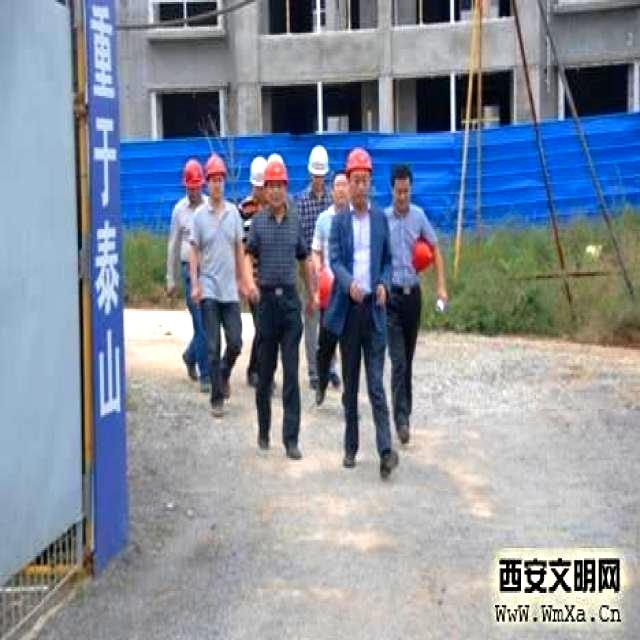hard_hat: (412, 237, 432, 272), (345, 147, 372, 172), (264, 155, 287, 182), (183, 159, 202, 190), (308, 145, 328, 174), (205, 155, 224, 180), (250, 155, 265, 186)
no_head_wear: (391, 164, 412, 184), (331, 170, 345, 183)
person: (323, 149, 396, 476), (240, 155, 309, 459), (383, 166, 447, 458), (188, 155, 243, 415), (168, 159, 205, 388), (313, 171, 348, 404), (294, 145, 327, 387), (241, 155, 264, 229)
